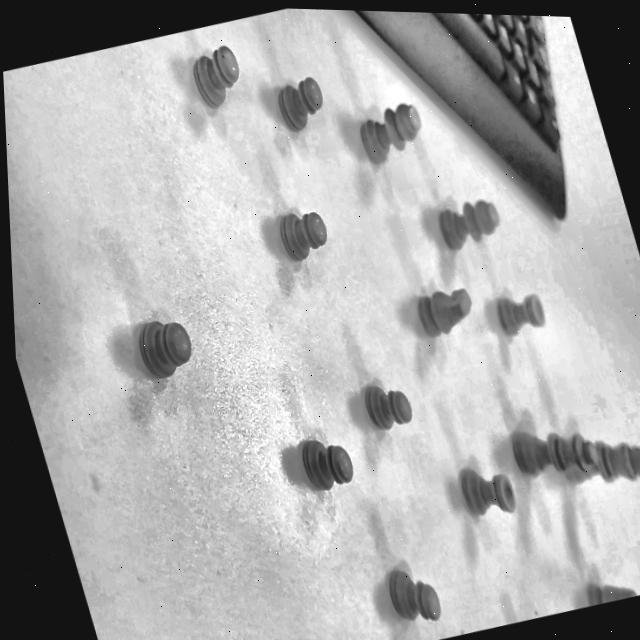white-bishop: (345, 95, 431, 173), (425, 187, 506, 258)
white-king: (540, 403, 640, 508)
white-knight: (400, 273, 478, 343), (580, 560, 640, 607)
white-pawn: (115, 284, 206, 397), (167, 27, 257, 125), (279, 418, 363, 506), (373, 547, 449, 640), (345, 357, 421, 442), (264, 191, 341, 274), (264, 70, 333, 136)
white-queen: (498, 406, 607, 493)
white-rook: (442, 450, 520, 532), (484, 274, 556, 349)
